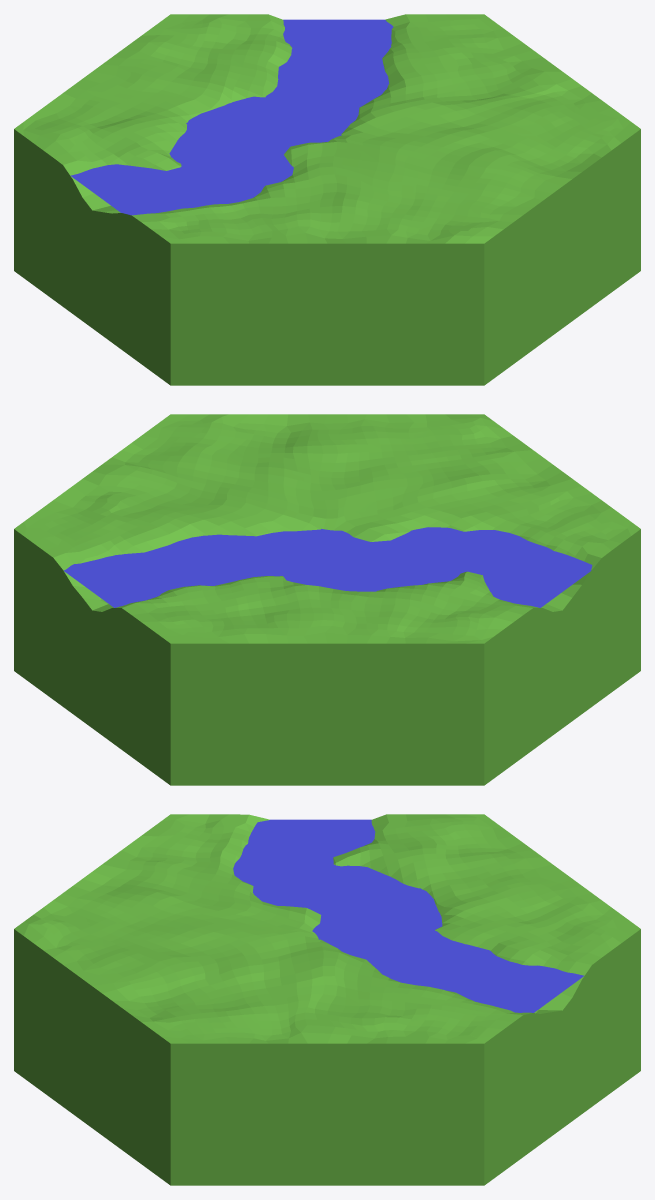
Rendered from WassergrabenKönigRichtigeFarbe.fbx.
The picture shows the model from 3 angles, top to bottom: view 1: azimuth 30°, elevation 25°; view 2: azimuth 150°, elevation 25°; view 3: azimuth 270°, elevation 25°; orthographic projection.
Parts seen in each view (by area): view 1: Cylinder; view 2: Cylinder; view 3: Cylinder.
Boxes of the visible parts, box(x1,y1,x2,y2) form: Cylinder: box(14, 14, 640, 385); Cylinder: box(14, 414, 640, 785); Cylinder: box(14, 814, 640, 1185).
Size of the model in its own units: 173 by 51.61 by 200.
